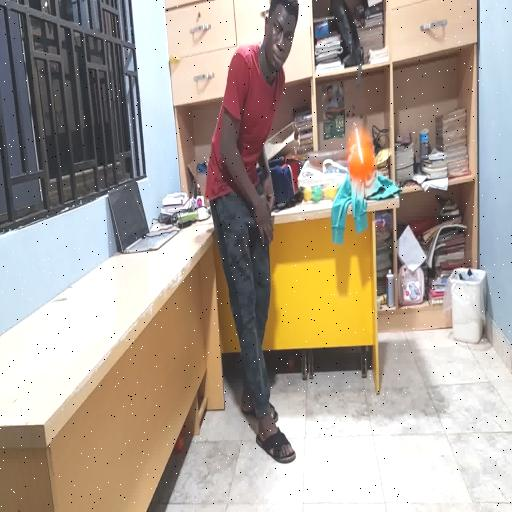plastic-ball: (346, 122, 374, 183)
